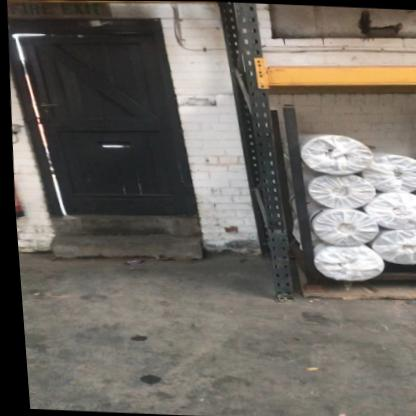vertical_damage: (256, 214, 298, 254)
